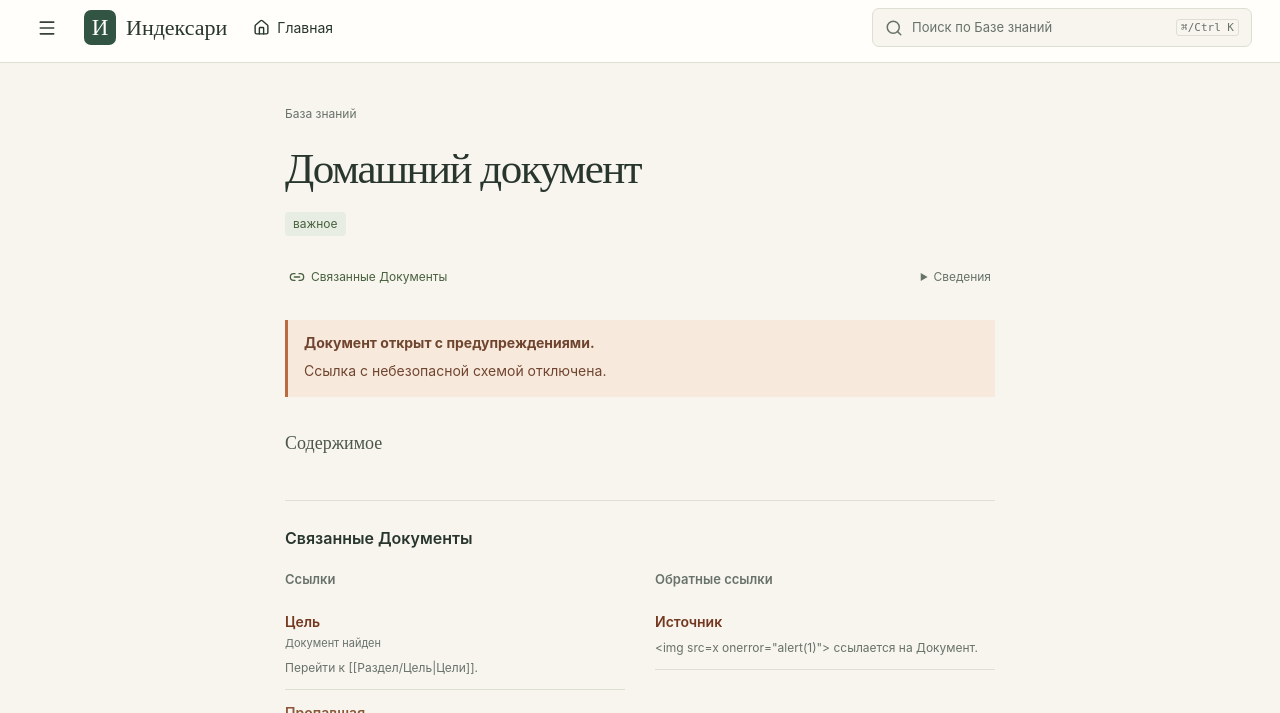
Scenario: Atlas › opens the same search experience from a clickable tag
Click the button "важное" at [315, 224], box top-left (285, 212), bottom-right (346, 236)
(page scrolled)
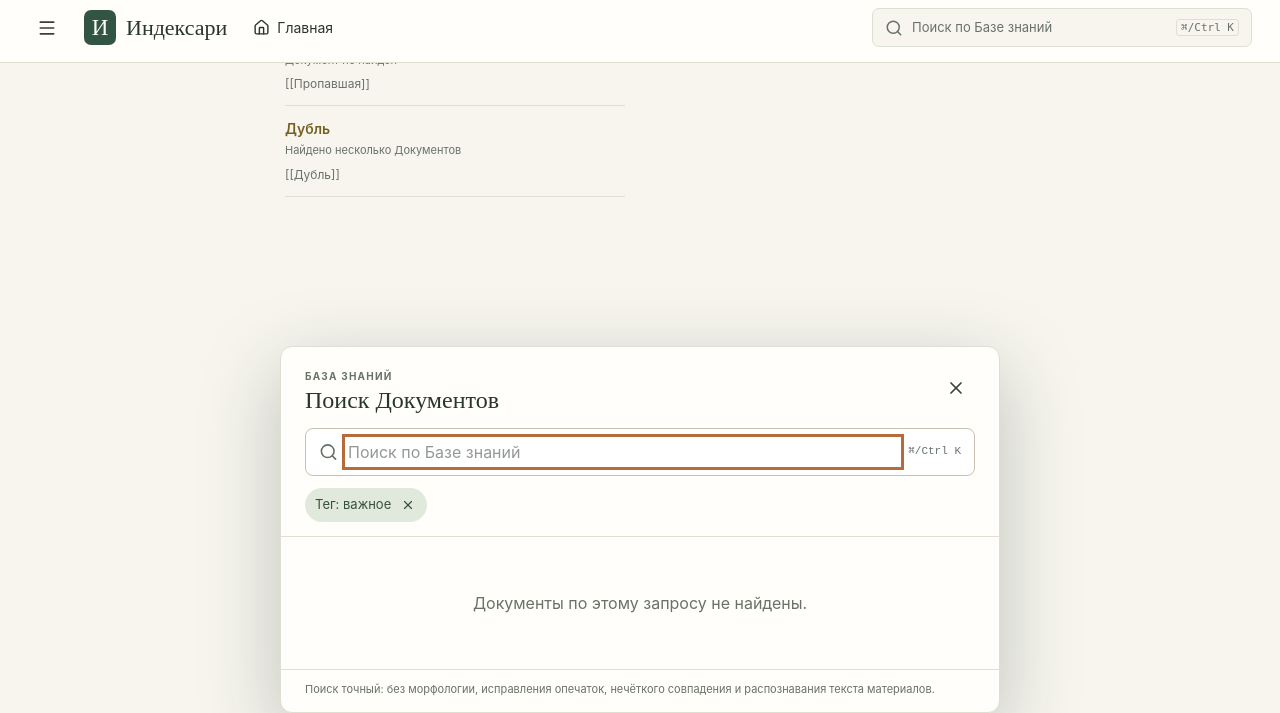
Result: the dialog "Поиск Документов" is shown at top-left (280, 346), bottom-right (1000, 712)
Result: the text "Тег: важное" is shown at top-left (315, 495), bottom-right (391, 514)
Result: the text "Документы по этому запросу не найдены." is shown at top-left (473, 593), bottom-right (807, 613)
